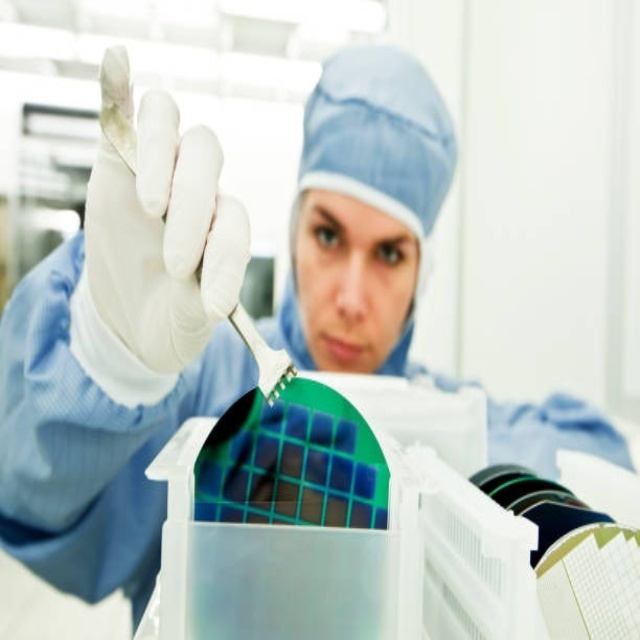Guantes: (73, 46, 248, 397)
Sin_gafas: (306, 192, 412, 291)
Sin_mascara: (308, 313, 375, 373)
